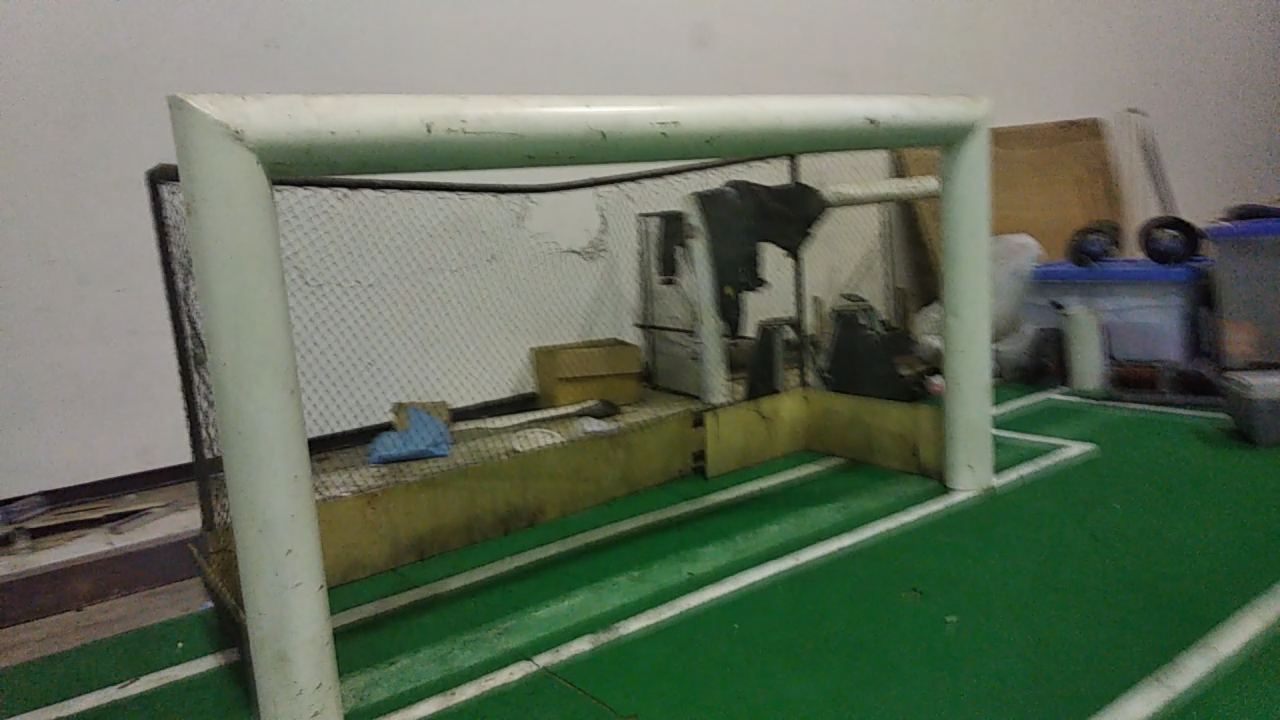gawang: (158, 78, 1005, 717)
